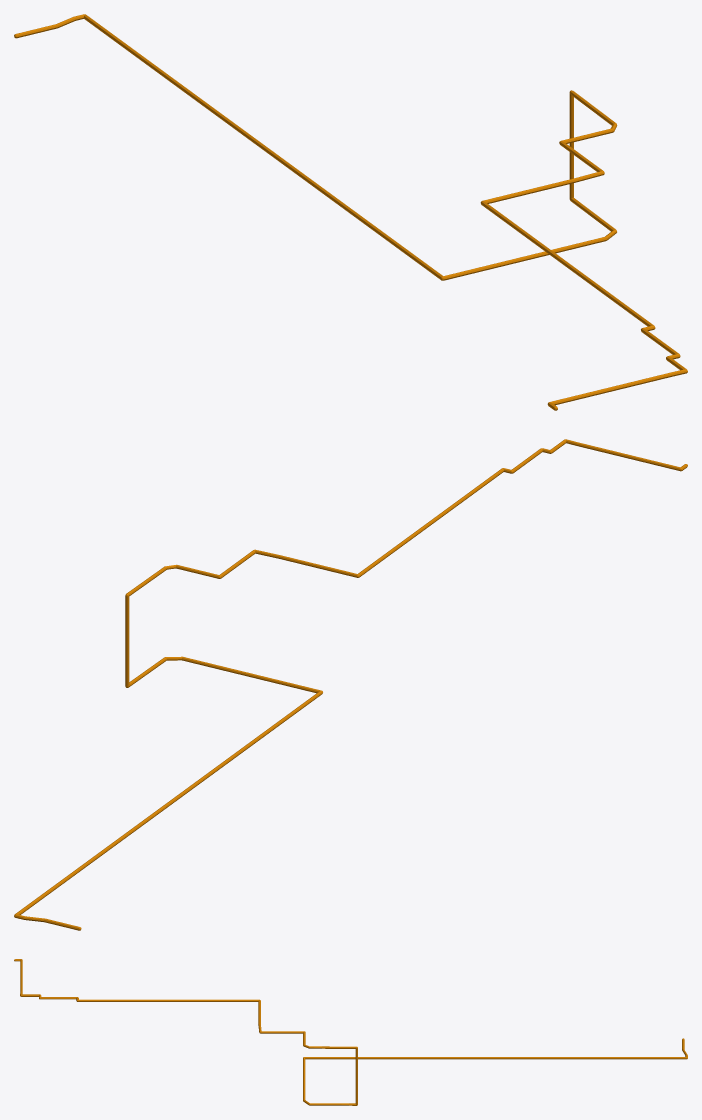
The picture shows the model from 3 angles, top to bottom: view 1: azimuth 30°, elevation 25°; view 2: azimuth 150°, elevation 25°; view 3: azimuth 270°, elevation 25°; orthographic projection. The views are drawn at different scales.
Bounding box in the file's own units: 1670 × 520 × 5372.
